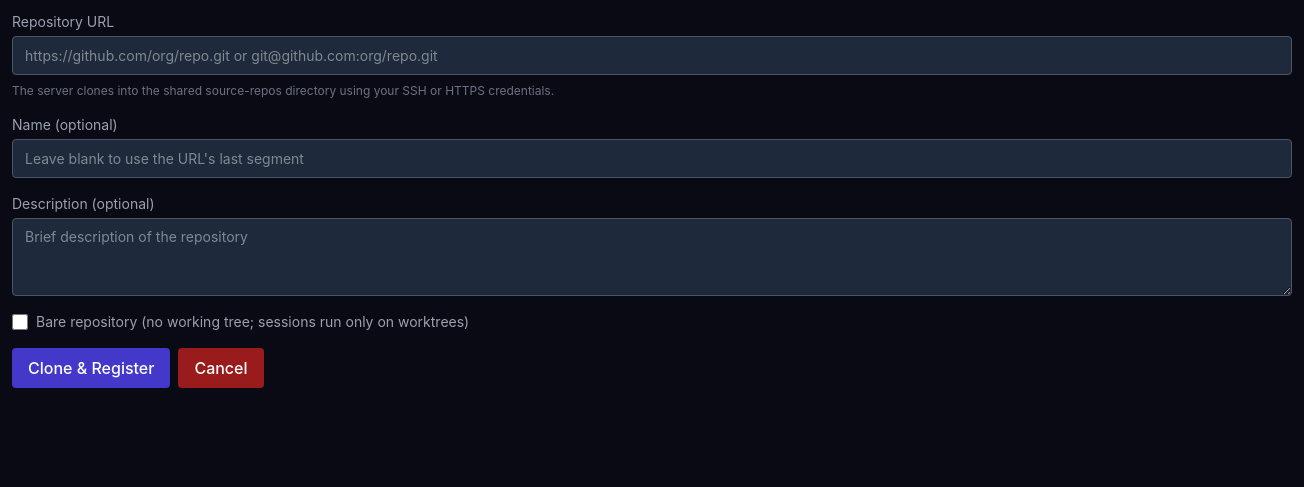
Test: CloneFromUrlForm › polling lifecycle › stops polling after the failed terminal state is observed
The image size is (1304, 487).
Type "https://example.com/foo.git" into the field with placeholder "https://github.com" at [652, 56], box [12, 36, 1292, 75]
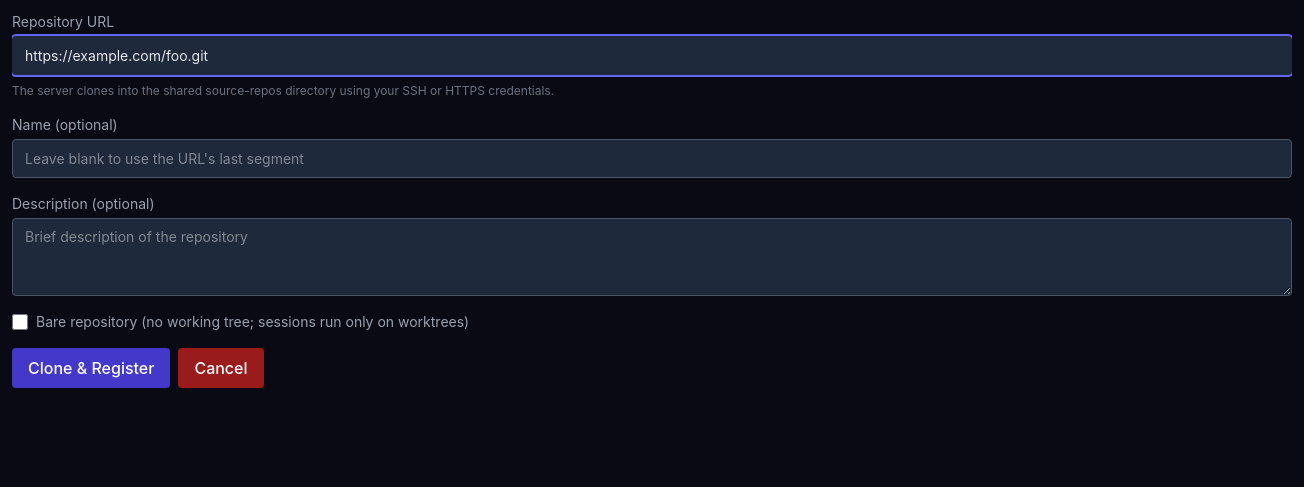
Click the button "Clone & Register" at [91, 368], box [12, 348, 170, 388]
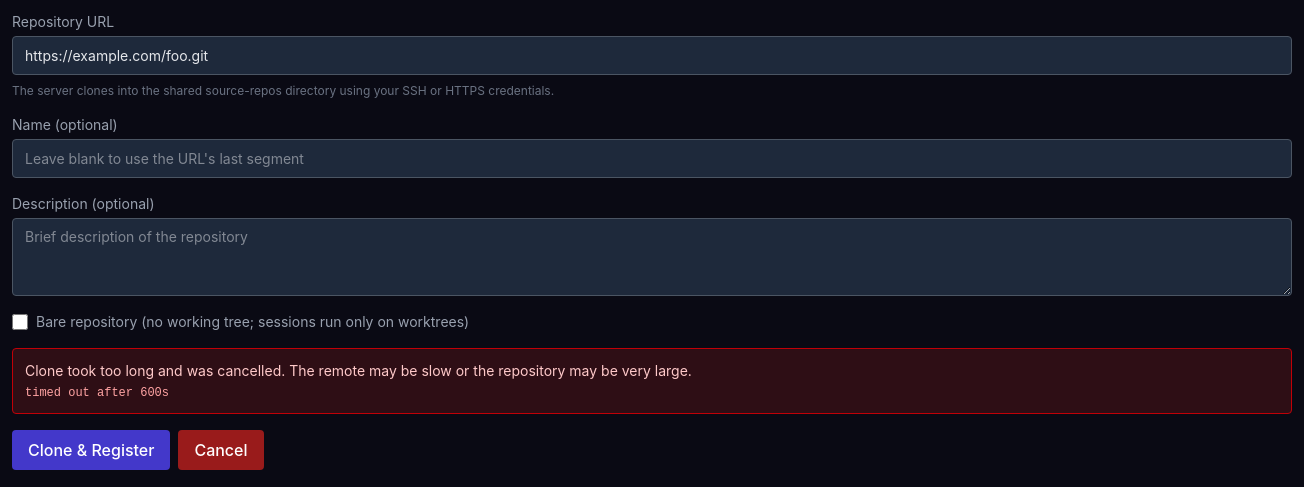
Result: the text "Clone took too long" is shown at [25, 362, 692, 379]
